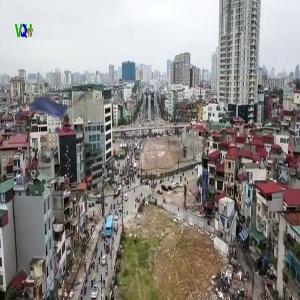drone: (2, 75, 83, 156)
